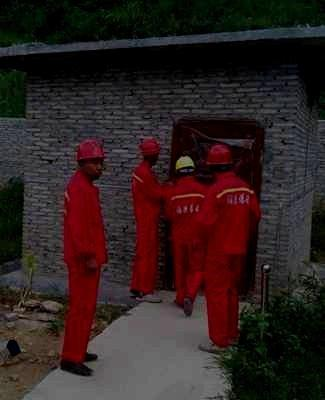helmet: (74, 137, 108, 181), (205, 143, 232, 175), (138, 137, 161, 167), (175, 155, 194, 179)
